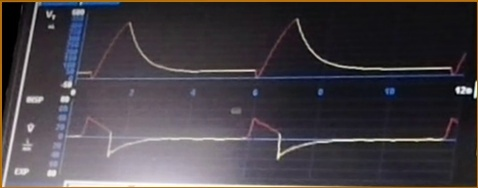Flow: (71, 114, 459, 173)
Leakage Volume: (80, 16, 467, 82)
